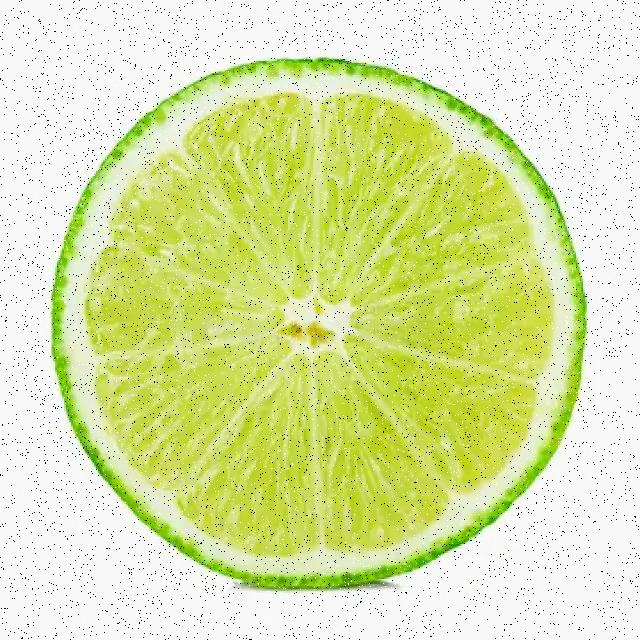Lime: (43, 49, 585, 612)
